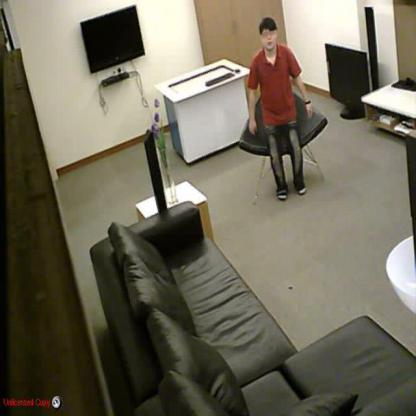Person: (247, 18, 314, 201)
